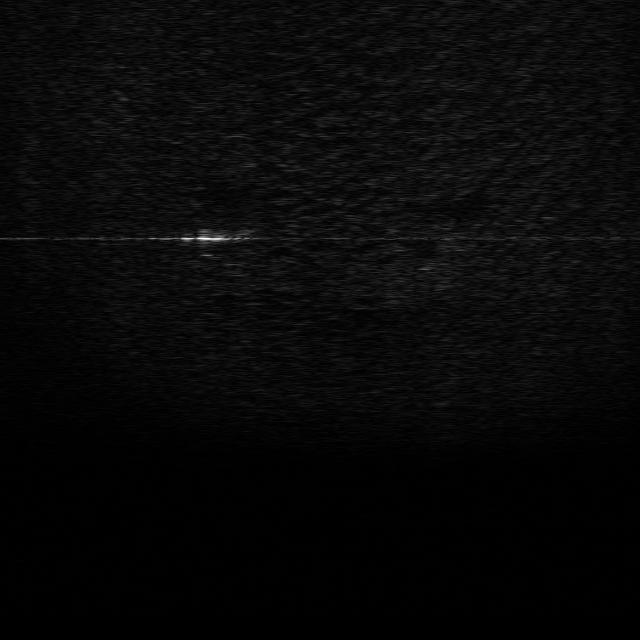plane: (187, 218, 265, 259)
